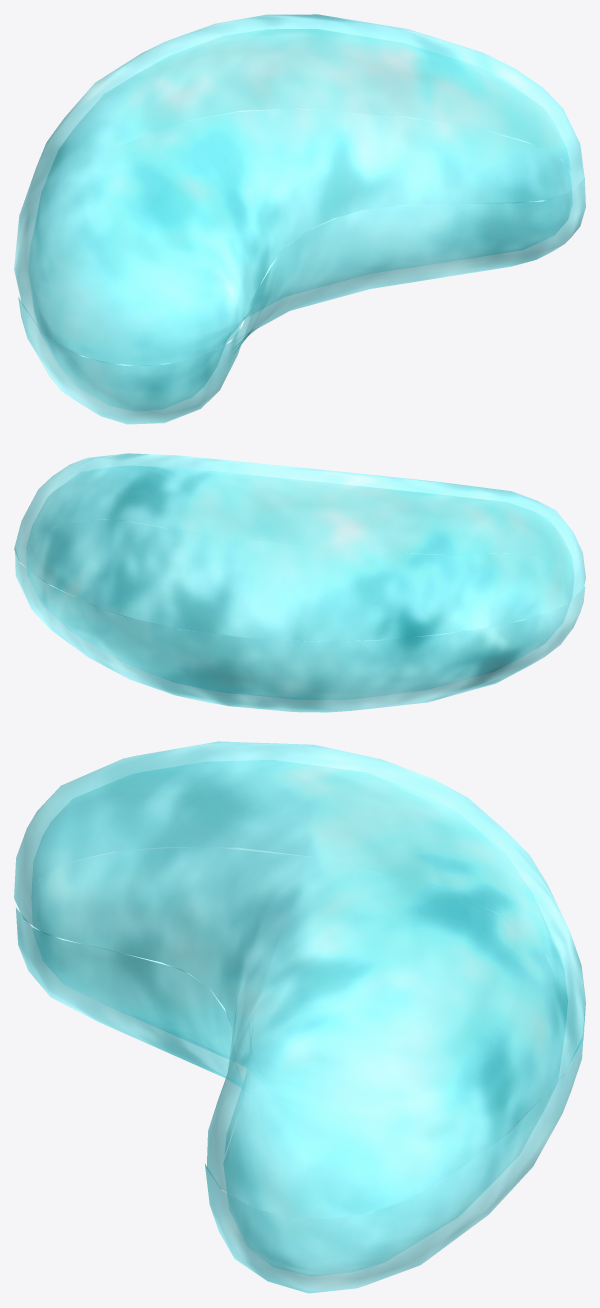
The model's file is vacuole.glb.
3 views of the same model, one above another, from view 1: azimuth 30°, elevation 25°; view 2: azimuth 150°, elevation 25°; view 3: azimuth 270°, elevation 25° (orthographic). The views are drawn at different scales.
Parts seen in each view (by area): view 1: vacuole; view 2: vacuole; view 3: vacuole.
Part boxes in pixels (bbox=[...]): vacuole: bbox=[14, 14, 585, 424]; vacuole: bbox=[14, 453, 585, 712]; vacuole: bbox=[14, 741, 585, 1293].
Size of the model in its own units: 3.76 by 1.61 by 2.5.
1 material, 1 textured.
